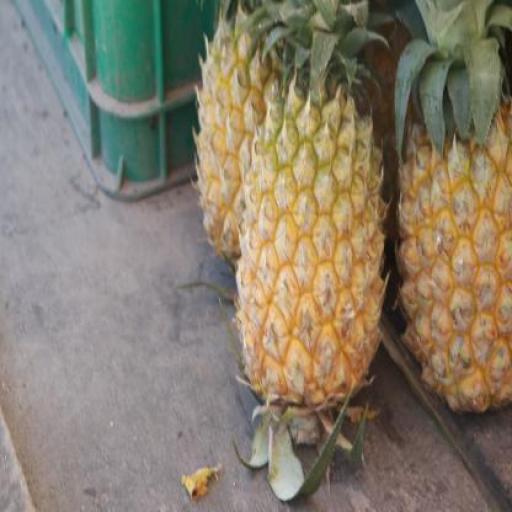Pineapple - v8 v1: (240, 92, 384, 415), (400, 93, 512, 410), (200, 11, 294, 261)
